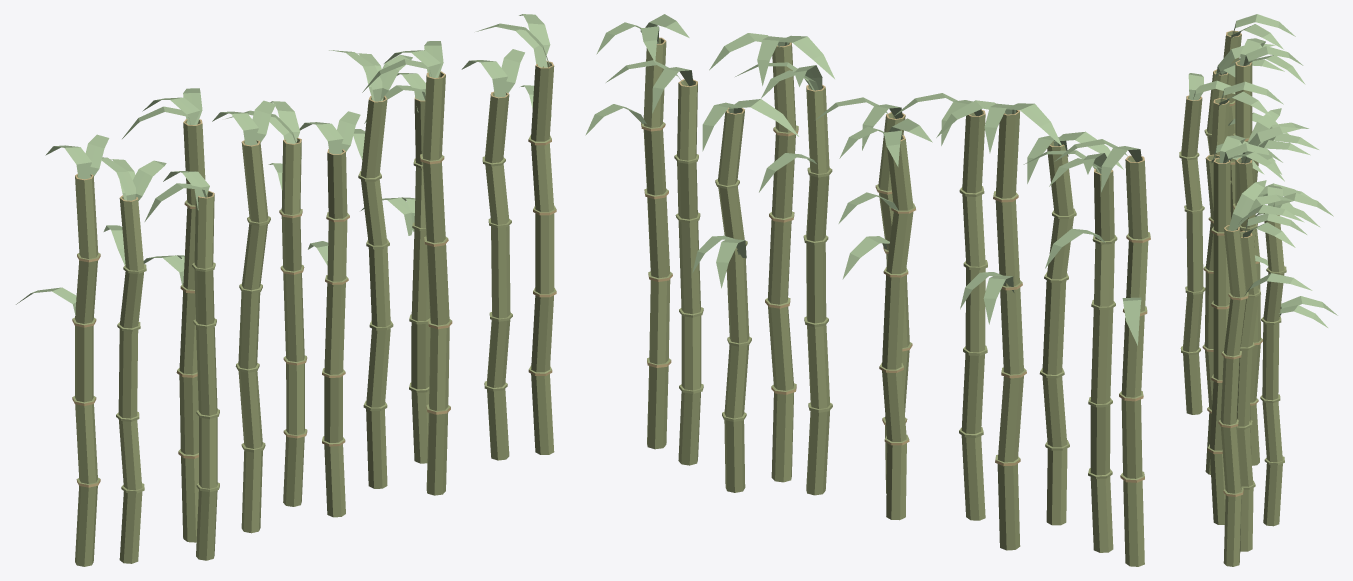
The model's file is ER_Asset_Bamboo.fbx.
3 views of the same model, side by side, from view 1: azimuth 30°, elevation 25°; view 2: azimuth 150°, elevation 25°; view 3: azimuth 270°, elevation 25° (orthographic). The views are drawn at different scales.
Visible parts, largest first — view 1: polySurface3821; view 2: polySurface3821; view 3: polySurface3821.
Part boxes in pixels (left/top/right/bottom): polySurface3821: left=16, top=14, right=556, bottom=566; polySurface3821: left=585, top=14, right=1150, bottom=566; polySurface3821: left=1179, top=14, right=1337, bottom=566.
Size of the model in its own units: 6.44 by 5.09 by 1.97.
